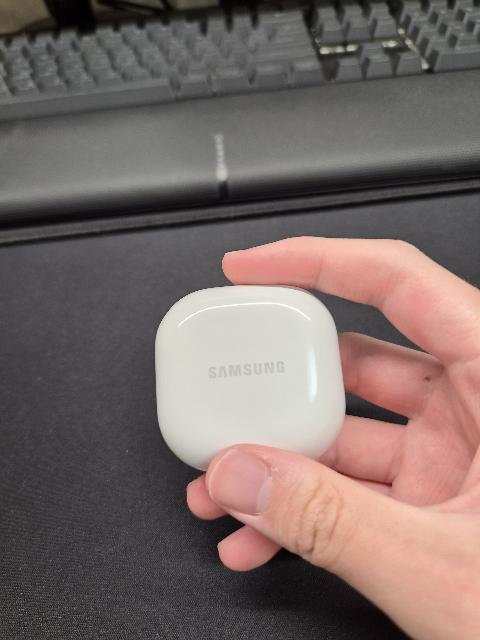earphone_case: (155, 285, 347, 472)
